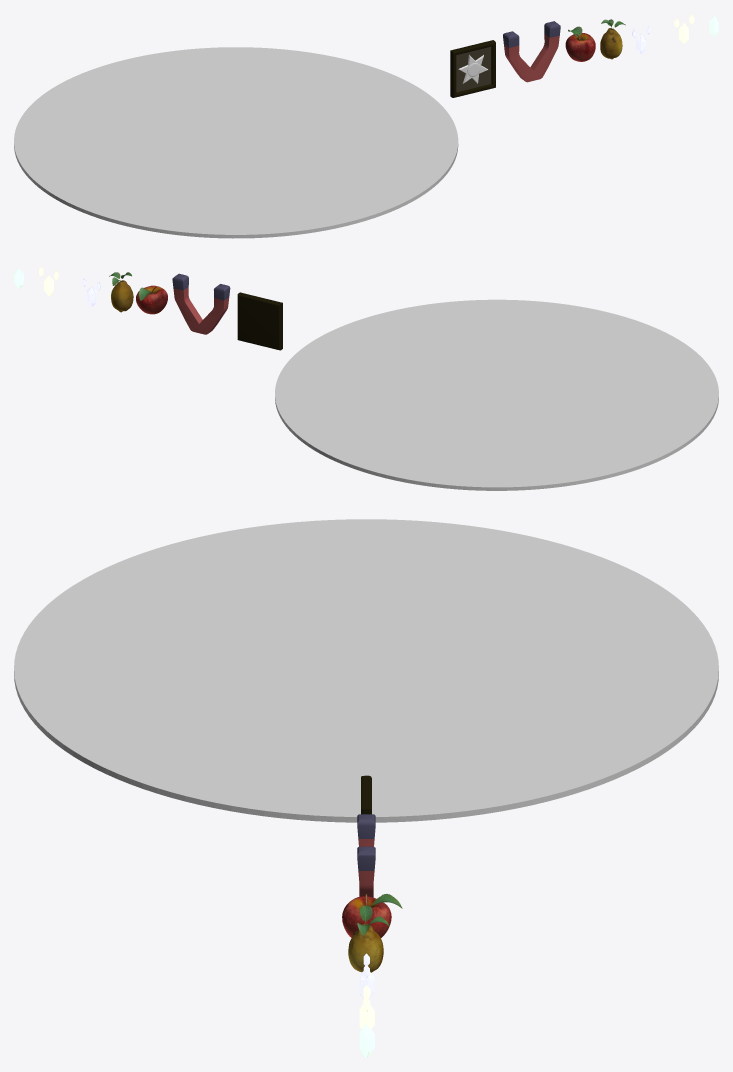
File: consumables.fbx
3 renders of one model, top to bottom at view 1: azimuth 30°, elevation 25°; view 2: azimuth 150°, elevation 25°; view 3: azimuth 270°, elevation 25°, orthographic. The views are drawn at different scales.
Visible parts, largest first — view 1: uv light, sunshine, magnet, Apple, vital seed; view 2: uv light, sunshine, magnet, Apple, vital seed; view 3: uv light, vital seed, Apple, magnet.
Part boxes in pixels (x1,y1,x2,y2): uv light: (14,47,458,238); sunshine: (450,40,495,97); magnet: (503,21,560,82); Apple: (565,26,595,61); vital seed: (600,19,625,59); uv light: (275,299,718,490); sunshine: (237,292,282,350); magnet: (172,273,230,334); Apple: (136,285,167,314); vital seed: (109,272,133,312); uv light: (14,519,718,822); vital seed: (348,905,389,972); Apple: (342,894,402,937); magnet: (357,814,375,897).
Size of the model in its own units: 31.34 by 2.33 by 17.87.
